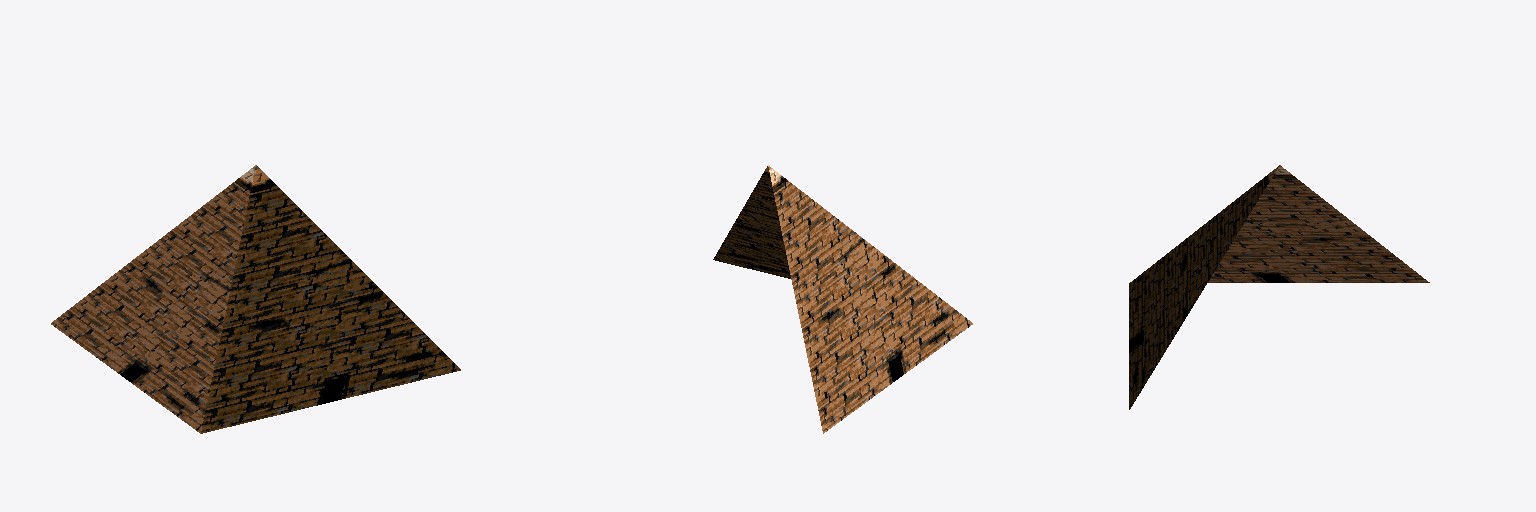
3 renders of one model, left to right at view 1: azimuth 30°, elevation 25°; view 2: azimuth 150°, elevation 25°; view 3: azimuth 270°, elevation 25°, orthographic.
Bounding box in the file's own units: 900 × 600 × 900.
1 materials, 1 textured.